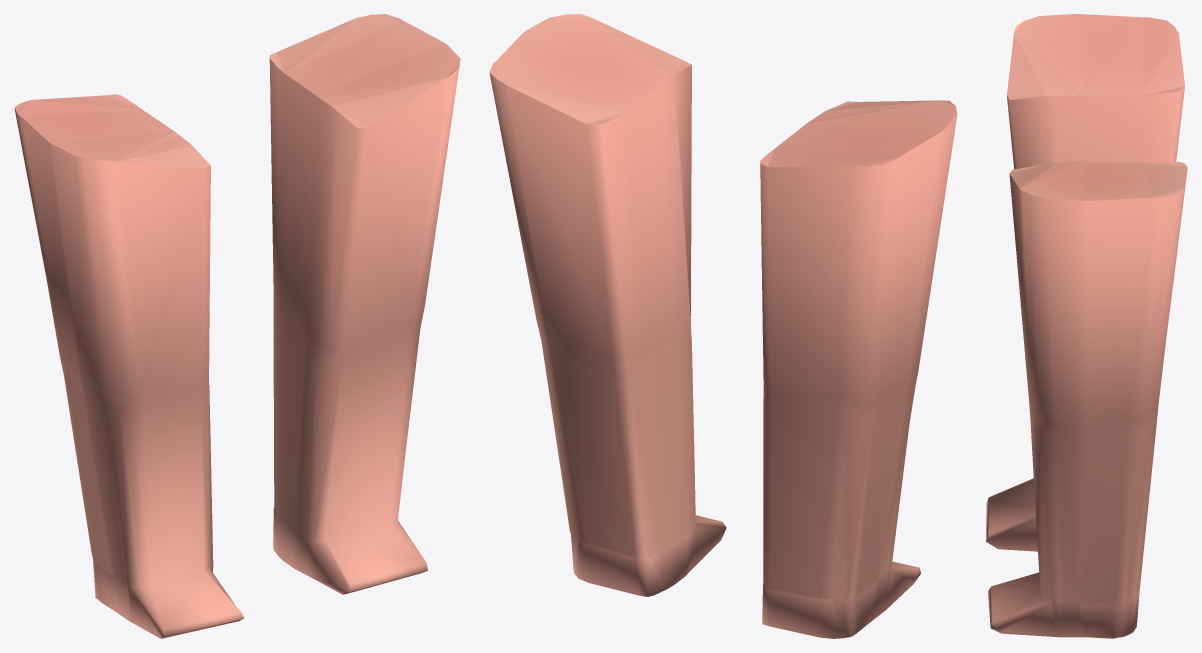
Rendered from 僅限腳.fbx.
3 views of the same model, side by side, from view 1: azimuth 30°, elevation 25°; view 2: azimuth 150°, elevation 25°; view 3: azimuth 270°, elevation 25° (orthographic). The views are drawn at different scales.
Parts seen in each view (by area): view 1: 身體; view 2: 身體; view 3: 身體.
Boxes of the visible parts, left/top/right/bottom form: 身體: left=14, top=14, right=460, bottom=638; 身體: left=489, top=14, right=957, bottom=638; 身體: left=986, top=14, right=1187, bottom=638.
Bounding box in the file's own units: 123 × 56.26 × 145.
1 material, 1 textured.
